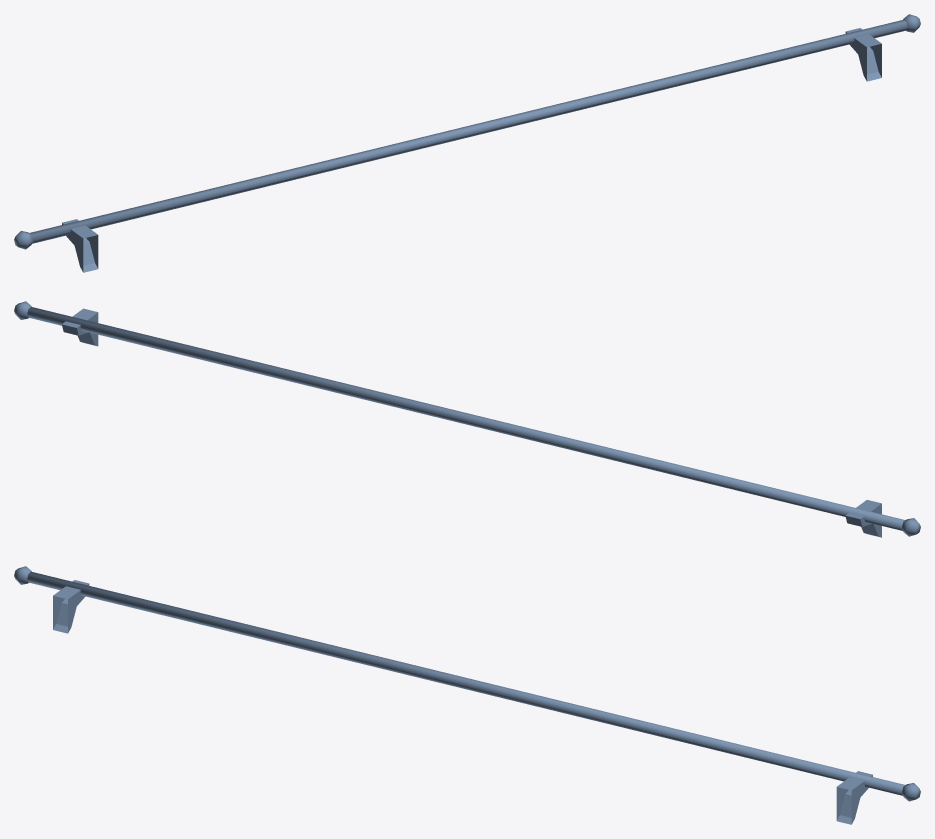
Rendered from baranda.fbx.
The picture shows the model from 3 angles, top to bottom: view 1: azimuth 30°, elevation 25°; view 2: azimuth 150°, elevation 25°; view 3: azimuth 330°, elevation 25°; orthographic projection.
Parts seen in each view (by area): view 1: Cylinder; view 2: Cylinder; view 3: Cylinder.
Part boxes in pixels (x1,y1,x2,y2): Cylinder: [14, 14, 920, 272]; Cylinder: [14, 301, 920, 537]; Cylinder: [14, 566, 920, 824].
Size of the model in its own units: 185 by 7.87 by 7.69.
